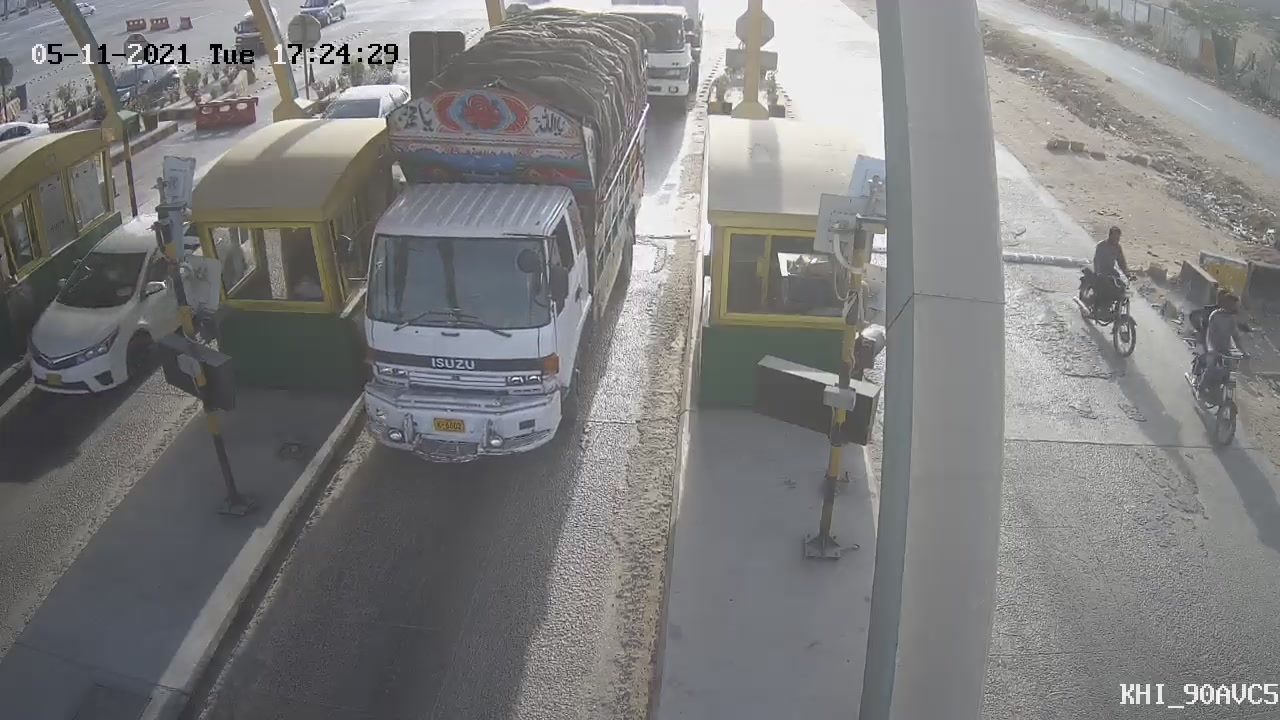F5: (312, 3, 682, 505)
